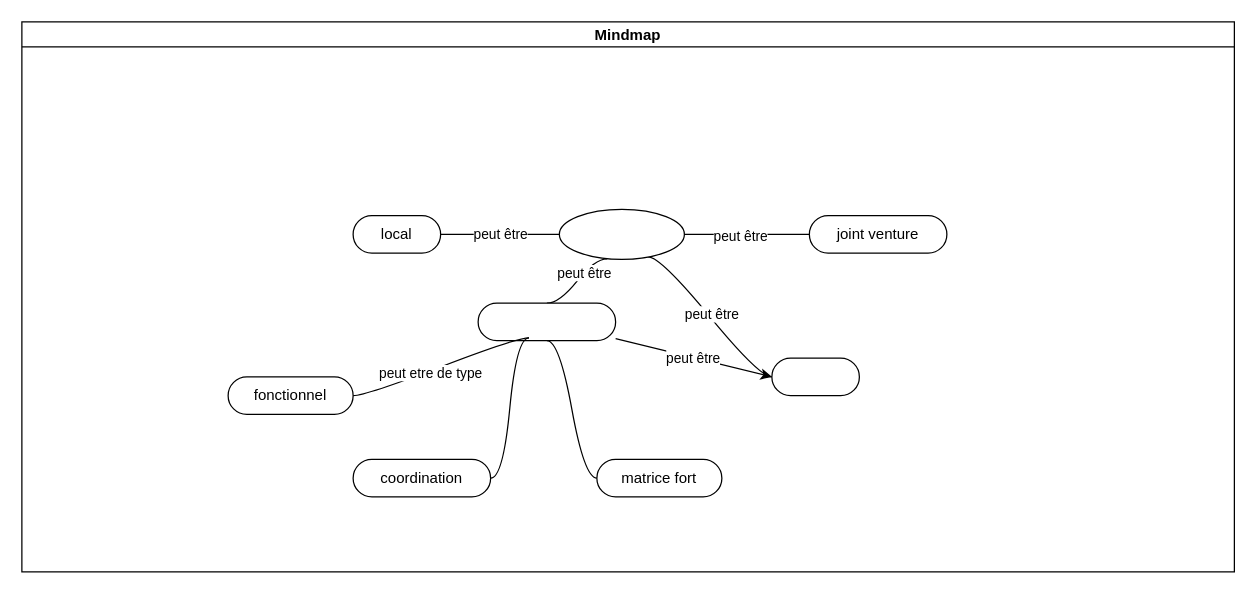
Some shapes in this 1256 by 594 pixel diagram are drawn without their labels. Each missing label, with the centre of its shape:
"sorti" belongs at point (815, 376).
"transversaux" belongs at point (546, 321).
"Type de projet" belongs at point (621, 233).
